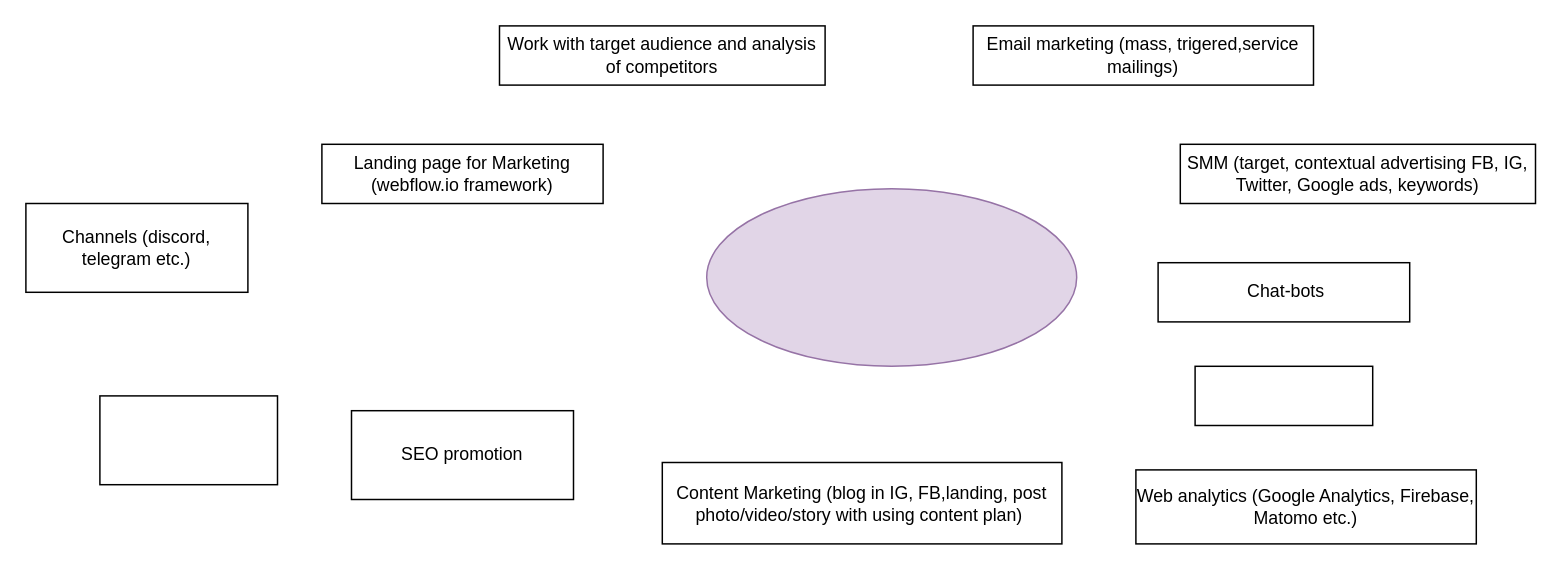
Some shapes in this 1561 by 570 pixel diagram are drawn without their labels. Here are the shapes that lost their labels. From the top down, the centre of each, then its label:
(x=891, y=276): Neostesia 2200 Online Marketing Strategy
(x=1283, y=395): Tiktok
(x=188, y=439): YouTube promotion
